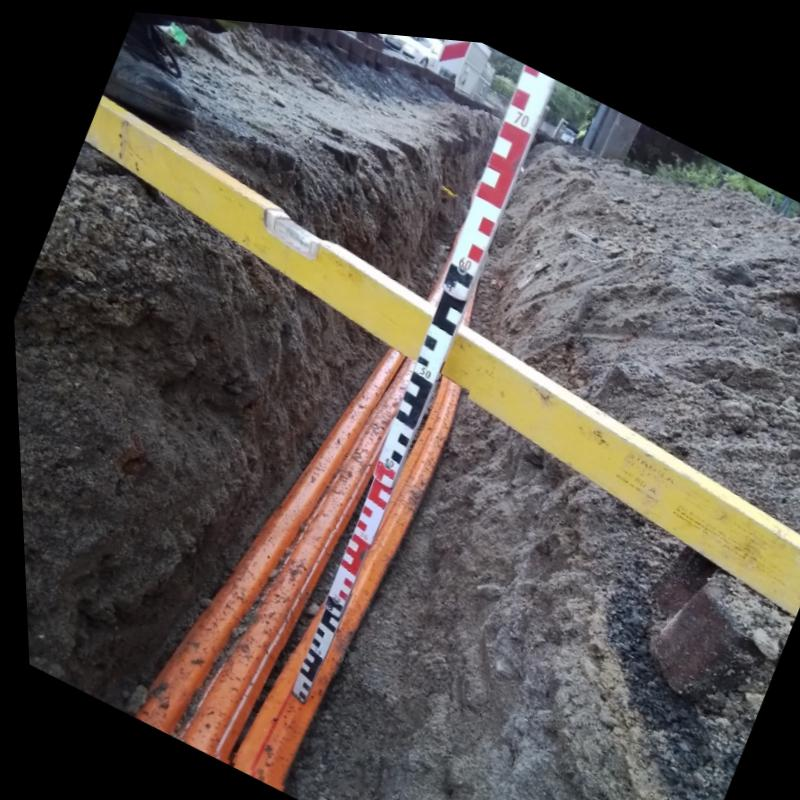Orang-Speednetrohrchen: (132, 342, 461, 783)
